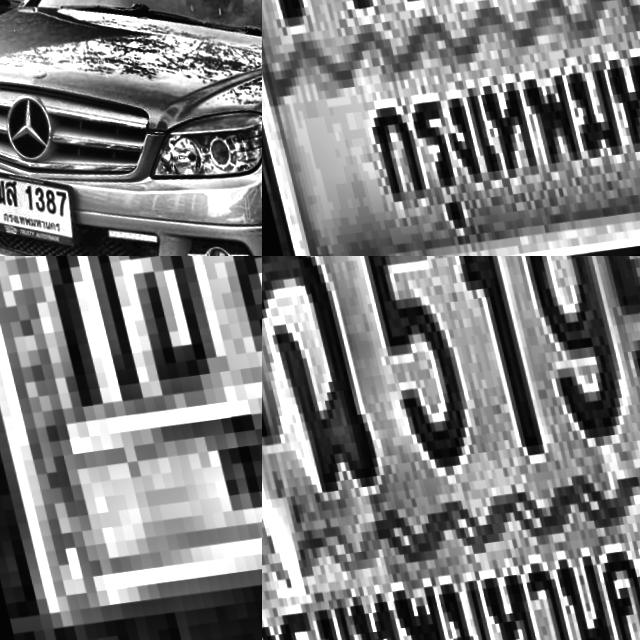license-plate: (262, 256, 640, 640), (0, 256, 262, 628), (262, 0, 640, 256), (0, 153, 81, 256)
